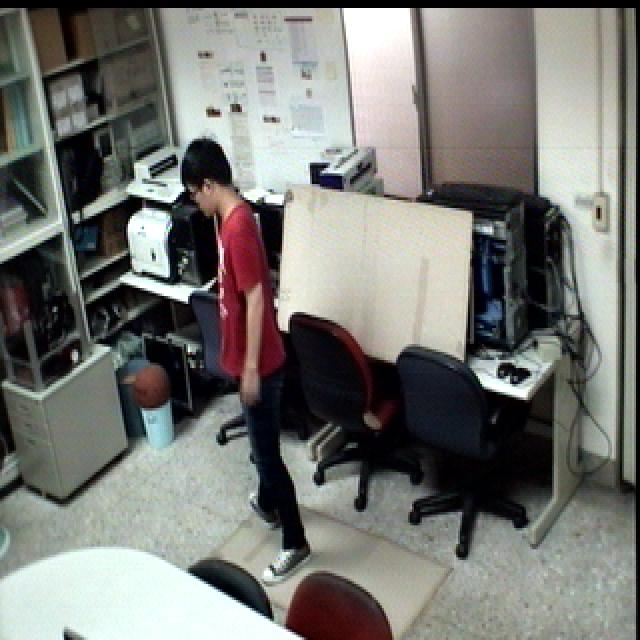stand: (168, 129, 324, 594)
